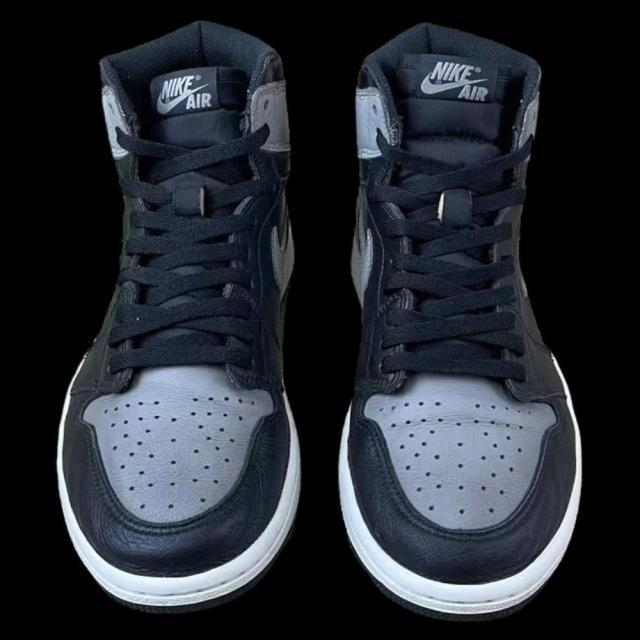nike original jordan 1: (52, 14, 308, 608), (330, 22, 582, 621)
